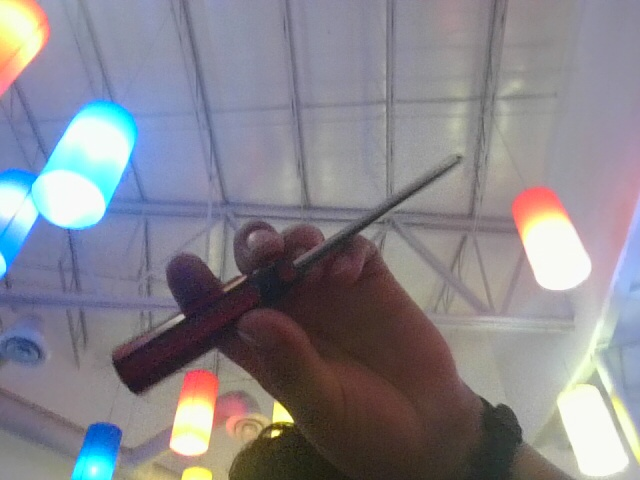destornillador: (113, 157, 459, 391)
